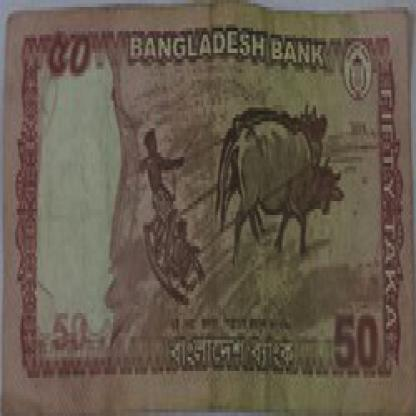Fifty taka: (313, 298, 393, 378), (45, 31, 95, 94)
